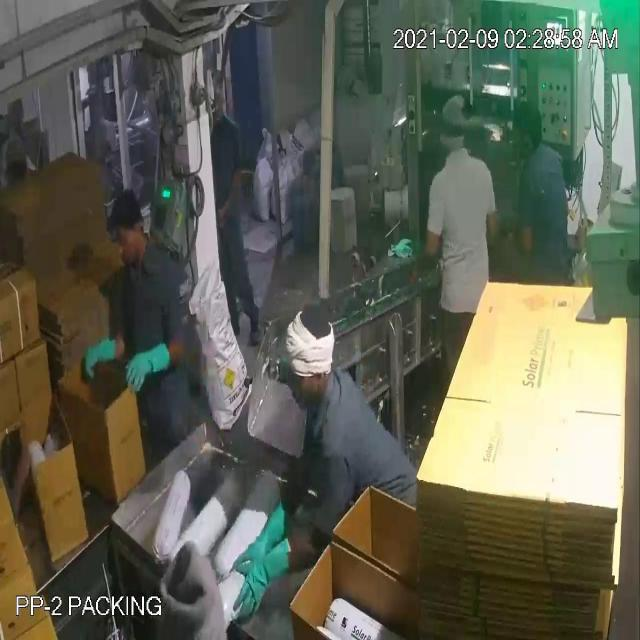Gloves: (23, 56, 424, 587)
